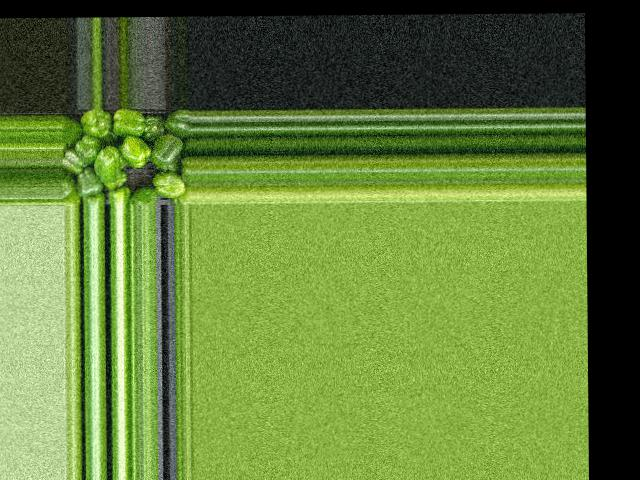bell_pepper: (60, 122, 82, 149)
